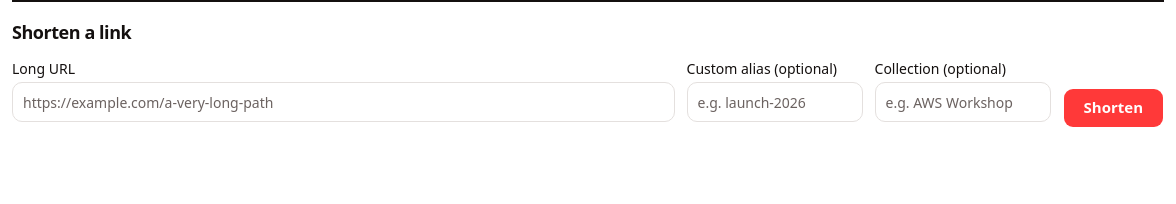
Scenario: LinkForm › shows a validation error for a bad alias
Type "https://example.com" into the field labelled "Long URL" at (343,102), box [12,82,674,122]
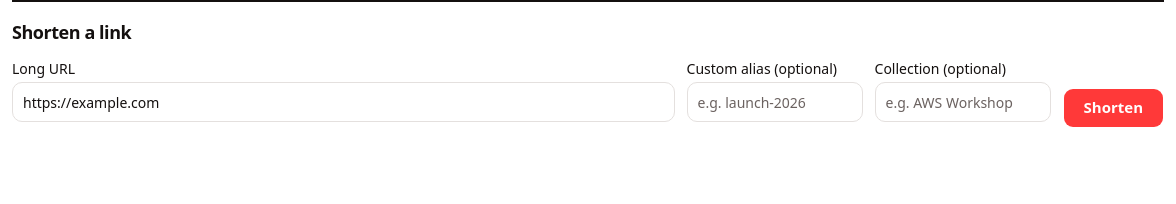
Type "a!" into the field labelled "Custom alias (optional)" at (774,102), box [686,82,862,122]
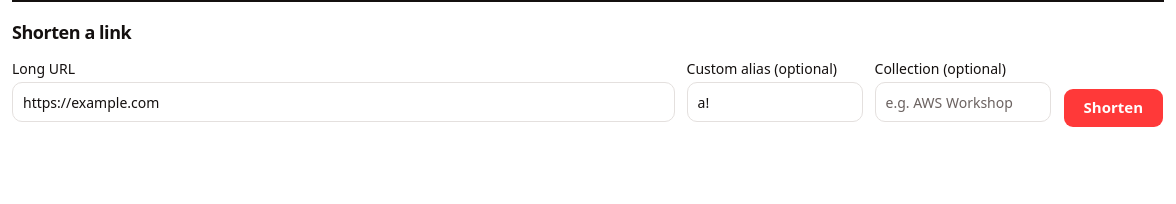
Click the button "Shorten" at (1113,108), box [1062,88,1164,128]
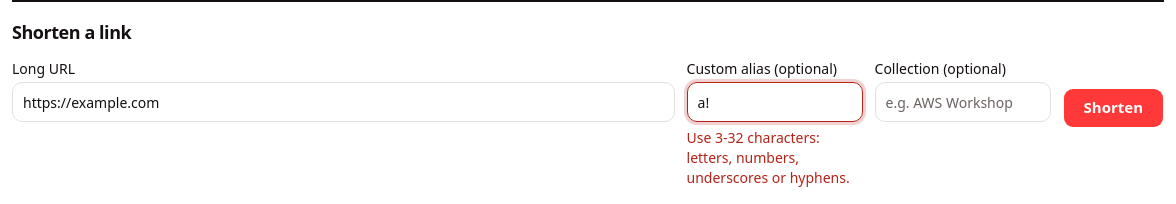
Now the text "Use 3-32 characters" is shown, box [686,128,850,187]
